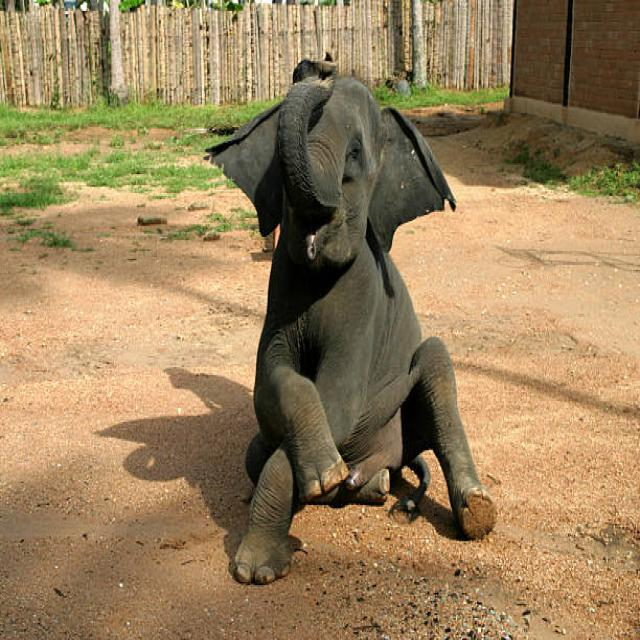Elephant: (205, 48, 514, 590)
